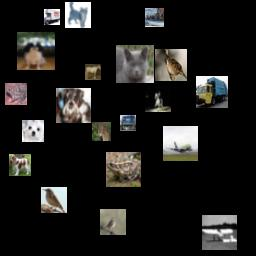airplane: (163, 126, 198, 161), (202, 215, 237, 250)
bird: (155, 49, 187, 81), (100, 209, 126, 235), (41, 187, 67, 213)
cat: (116, 45, 154, 83), (65, 2, 91, 28), (92, 122, 111, 141)
dog: (17, 32, 55, 70), (56, 88, 91, 123), (22, 120, 44, 142), (9, 154, 31, 176)
frog: (106, 152, 141, 187), (5, 83, 27, 105)
ship: (145, 8, 164, 27)
truck: (196, 76, 228, 108), (120, 115, 136, 131), (44, 9, 60, 25)
